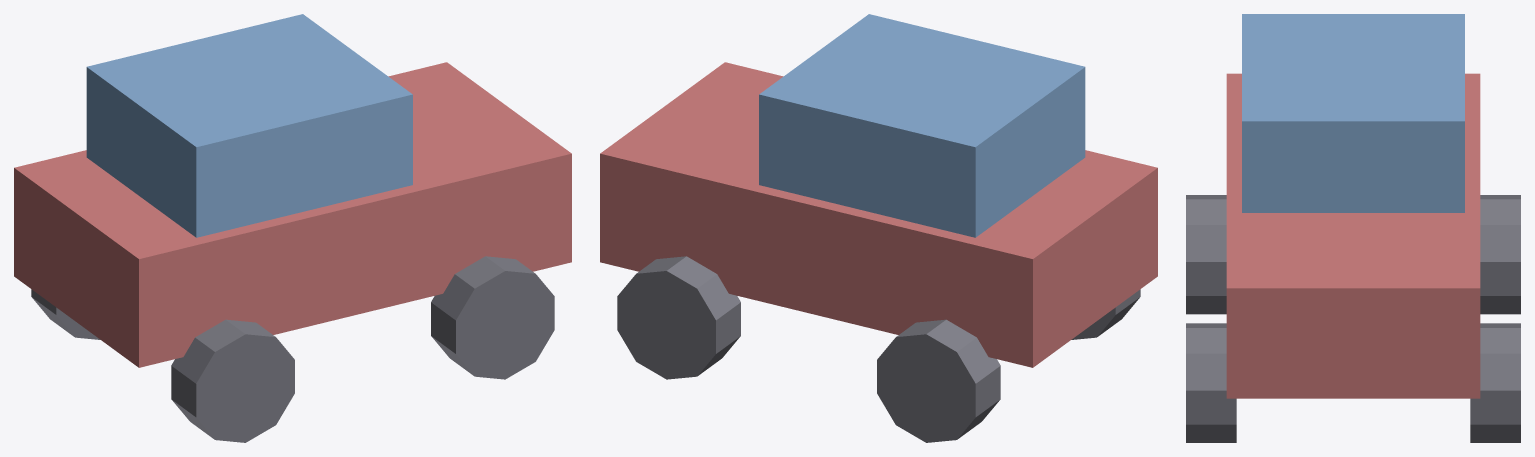
Rendered from kid_carrinho2.glb.
3 views of the same model, side by side, from view 1: azimuth 30°, elevation 25°; view 2: azimuth 150°, elevation 25°; view 3: azimuth 270°, elevation 25° (orthographic).
Parts seen in each view (by area): view 1: KID_CARRINHO2_v01; view 2: KID_CARRINHO2_v01; view 3: KID_CARRINHO2_v01.
Part boxes in pixels (x1=…): KID_CARRINHO2_v01: x1=14, y1=14, x2=571, y2=442; KID_CARRINHO2_v01: x1=600, y1=14, x2=1157, y2=442; KID_CARRINHO2_v01: x1=1186, y1=14, x2=1520, y2=442.
Bounding box in the file's own units: 0.5 × 0.31 × 0.33.
